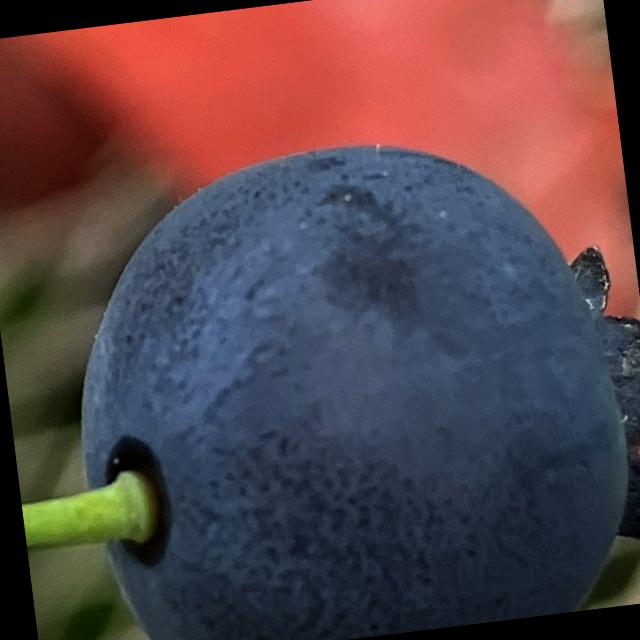Blueberries: (40, 103, 640, 640)
